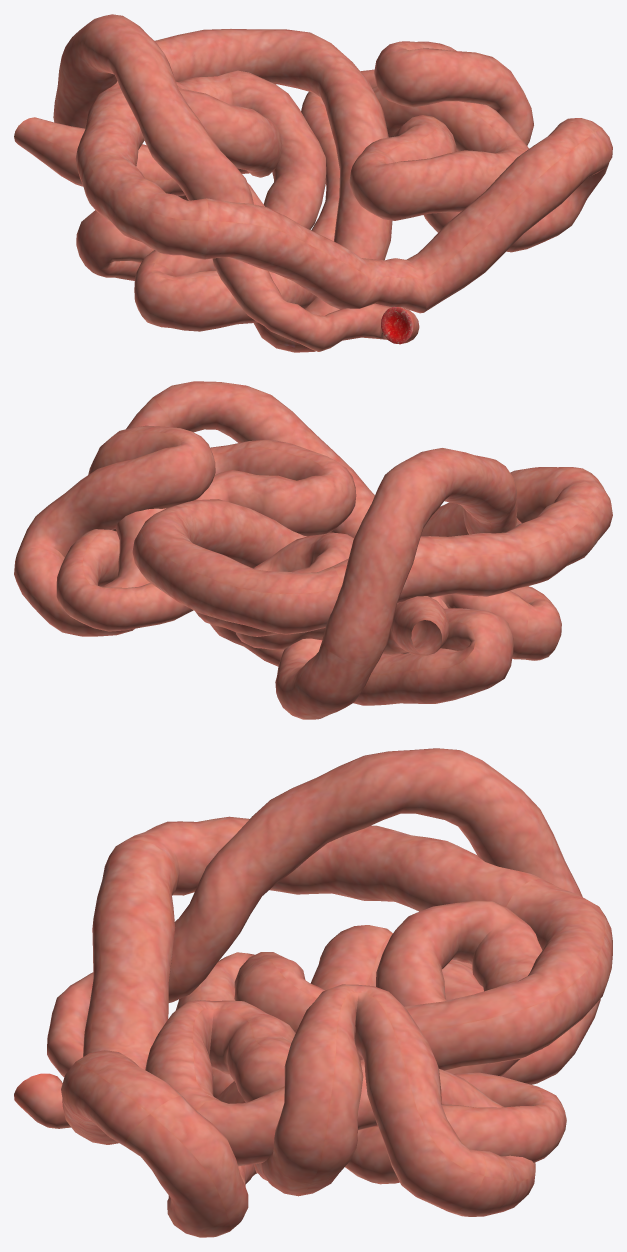
Rendered from smallIntestines.obj.
3 renders of one model, top to bottom at view 1: azimuth 30°, elevation 25°; view 2: azimuth 150°, elevation 25°; view 3: azimuth 270°, elevation 25°, orthographic. The views are drawn at different scales.
Visible parts, largest first — view 1: SmallIntestines; view 2: SmallIntestines; view 3: SmallIntestines.
Boxes of the visible parts, x1=… form: SmallIntestines: x1=14, y1=14, x2=612, y2=352; SmallIntestines: x1=14, y1=381, x2=612, y2=719; SmallIntestines: x1=14, y1=748, x2=612, y2=1237.
Size of the model in its own units: 6.81 by 4.06 by 6.05.
